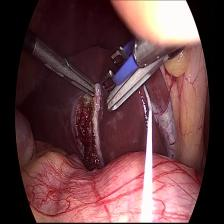Bipolar: (91, 22, 162, 100)
Grasper: (28, 32, 98, 104), (101, 63, 163, 122)
